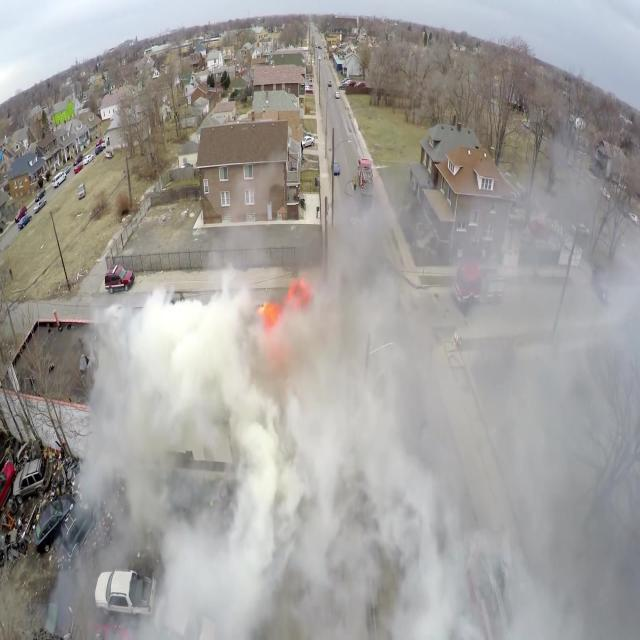Fire: (259, 275, 320, 346)
Smoke: (99, 267, 640, 640)
